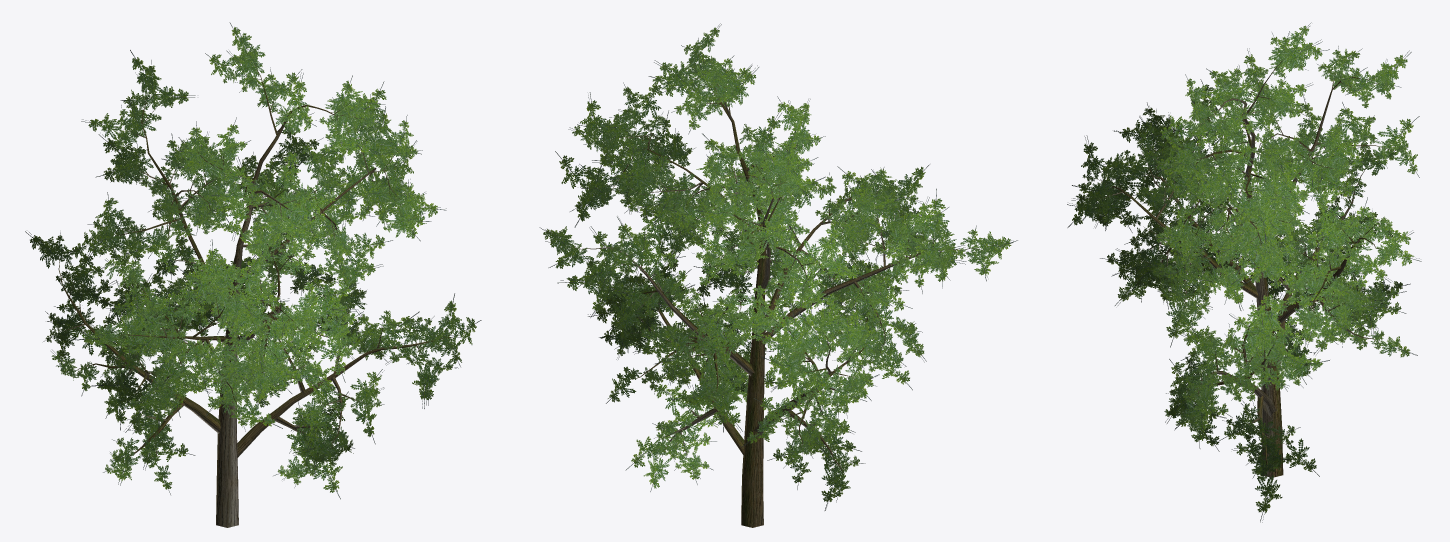
File: eztree-ash.glb
The picture shows the model from 3 angles, left to right: view 1: azimuth 30°, elevation 25°; view 2: azimuth 150°, elevation 25°; view 3: azimuth 270°, elevation 25°; orthographic projection. The views are drawn at different scales.
Parts seen in each view (by area): view 1: LOD0; view 2: LOD0; view 3: LOD0.
Part boxes in pixels (left/top/right/bottom): LOD0: left=25, top=22, right=481, bottom=527; LOD0: left=539, top=23, right=1017, bottom=527; LOD0: left=1067, top=22, right=1421, bottom=522.
Size of what is drawn, in the model's own units: 14.05 by 15 by 10.78.
Materials: 2 (2 with a texture image).
